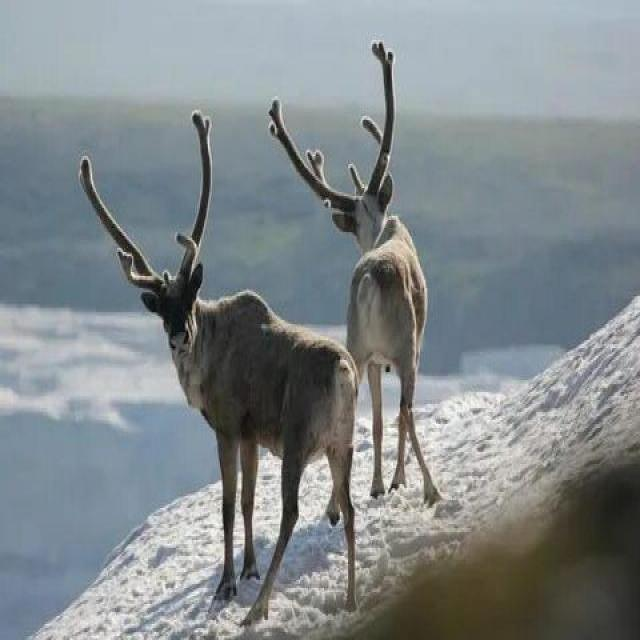deer: (139, 194, 399, 561), (300, 83, 503, 546)
